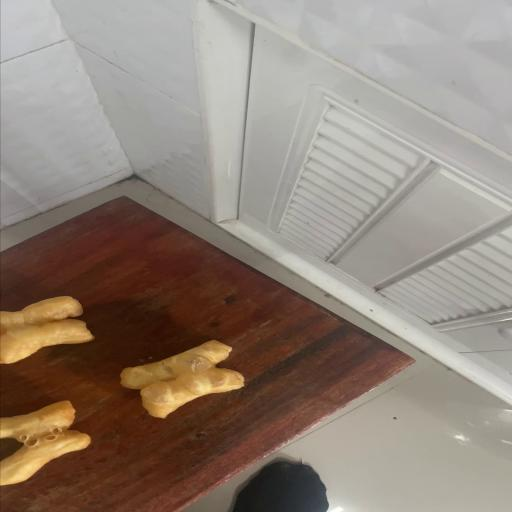street_golden_defect: (119, 341, 247, 417), (0, 402, 89, 484)
street_golden_good: (0, 298, 94, 364)
